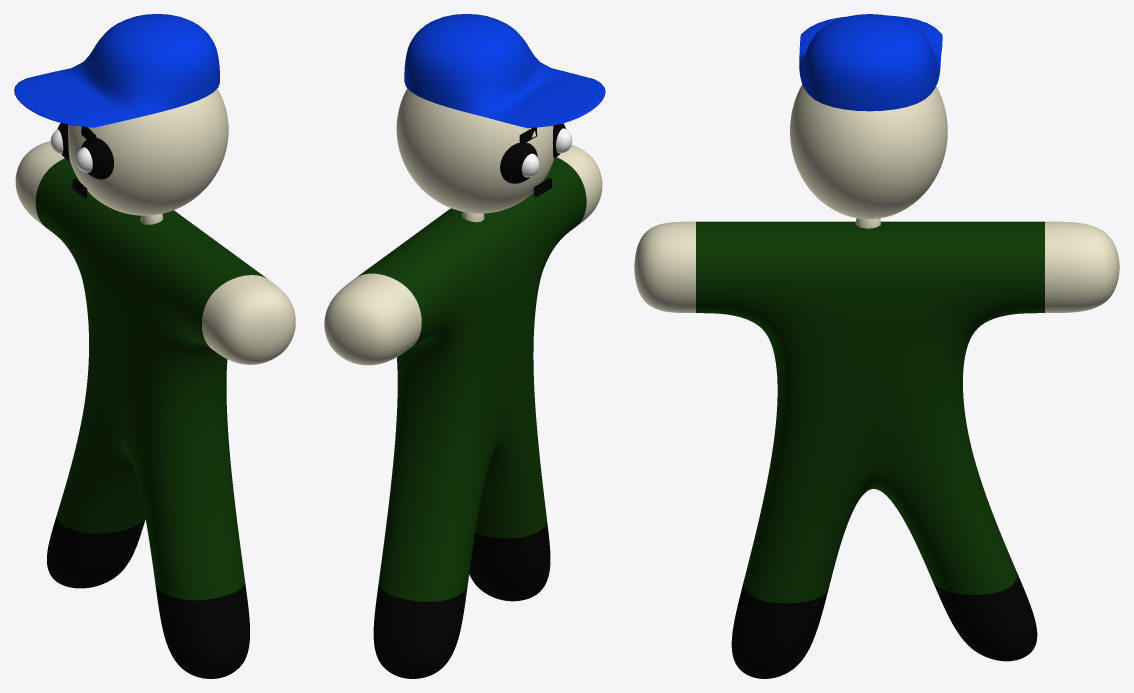
Rendered from Battle Plan character commander.fbx.
3 views of the same model, side by side, from view 1: azimuth 30°, elevation 25°; view 2: azimuth 150°, elevation 25°; view 3: azimuth 270°, elevation 25° (orthographic). The views are drawn at different scales.
Parts seen in each view (by area): view 1: Cube, Cube.001, Sphere, Sphere.001; view 2: Cube, Cube.001, Sphere, Sphere.002; view 3: Cube, Sphere, Cube.001.
Boxes of the visible parts, bbox=[...] form: Cube: bbox=[15, 141, 295, 678]; Cube.001: bbox=[14, 14, 219, 127]; Sphere: bbox=[68, 89, 228, 215]; Sphere.001: bbox=[81, 137, 113, 179]; Cube: bbox=[324, 145, 602, 678]; Cube.001: bbox=[404, 14, 605, 128]; Sphere: bbox=[396, 88, 554, 213]; Sphere.002: bbox=[500, 142, 537, 183]; Cube: bbox=[634, 221, 1119, 678]; Sphere: bbox=[790, 84, 947, 219]; Cube.001: bbox=[799, 14, 942, 111].
Bounding box in the file's own units: 261 × 805 × 548.
